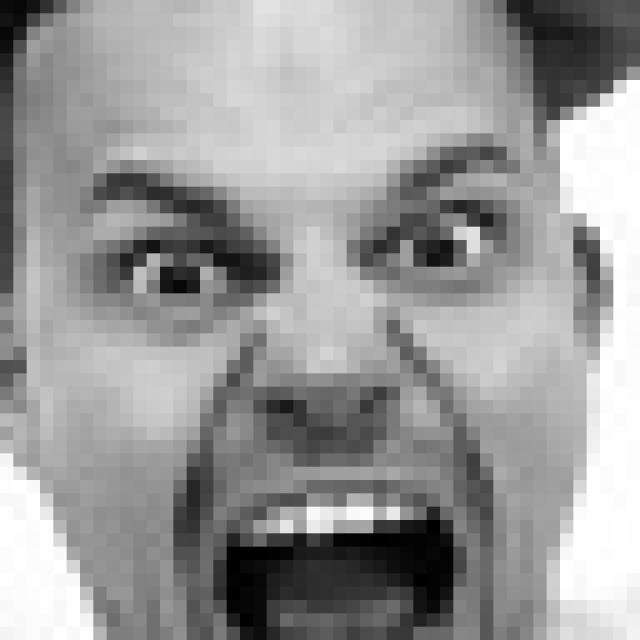angry: (84, 134, 533, 640)
